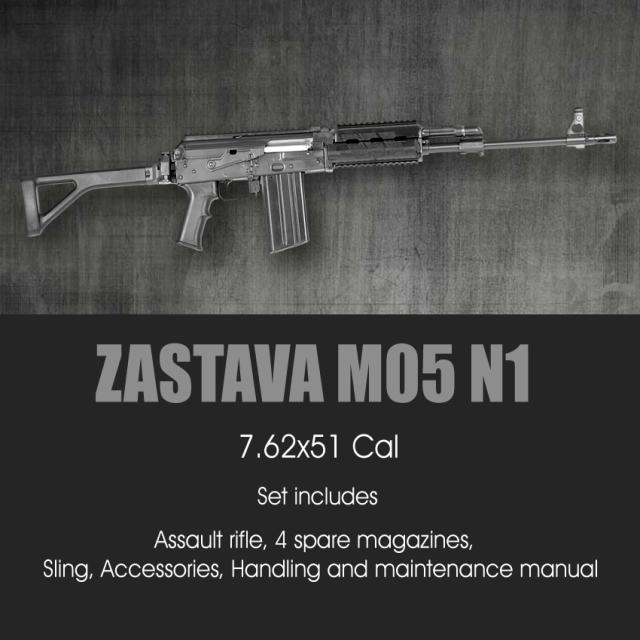Rifle: (22, 123, 617, 252)
